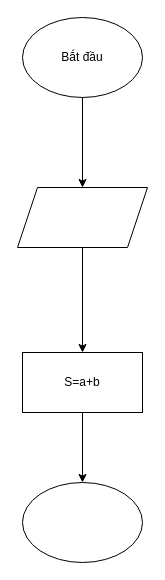
The diagram is 165 pixels wide and 580 high, and some of its shapes have lost their labels. The shapes that lost their labels are listed below. From the top down, each one's centre as x and y in pixels, then its label:
(82,217): Nhập vào 2 số a,b
(82,522): Kết thúc
